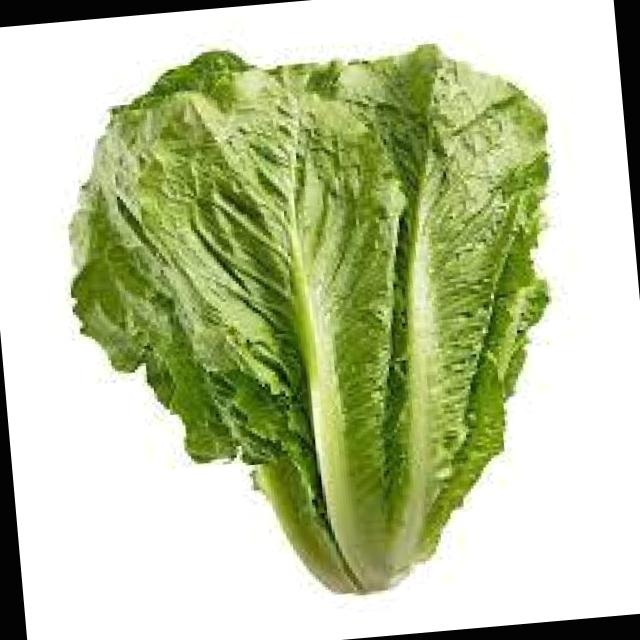Lettuce-Ready-to-Harvest: (72, 44, 548, 590)
